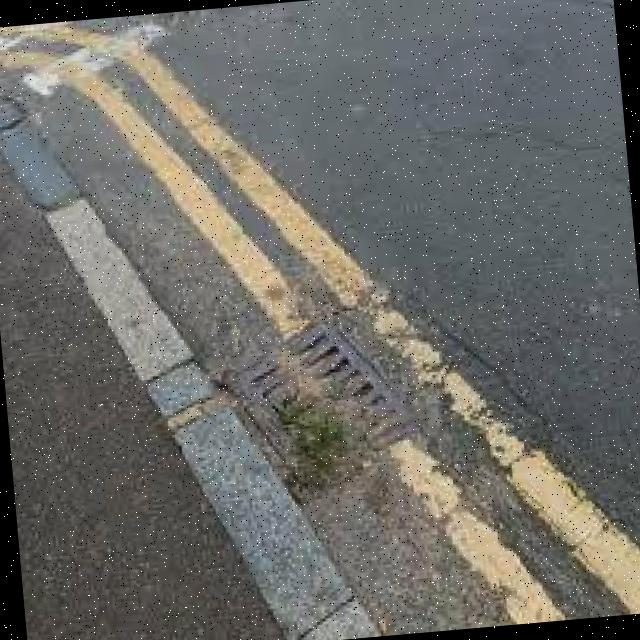curb: (1, 89, 375, 640)
